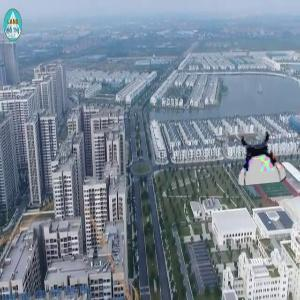drone: (232, 130, 287, 185)
